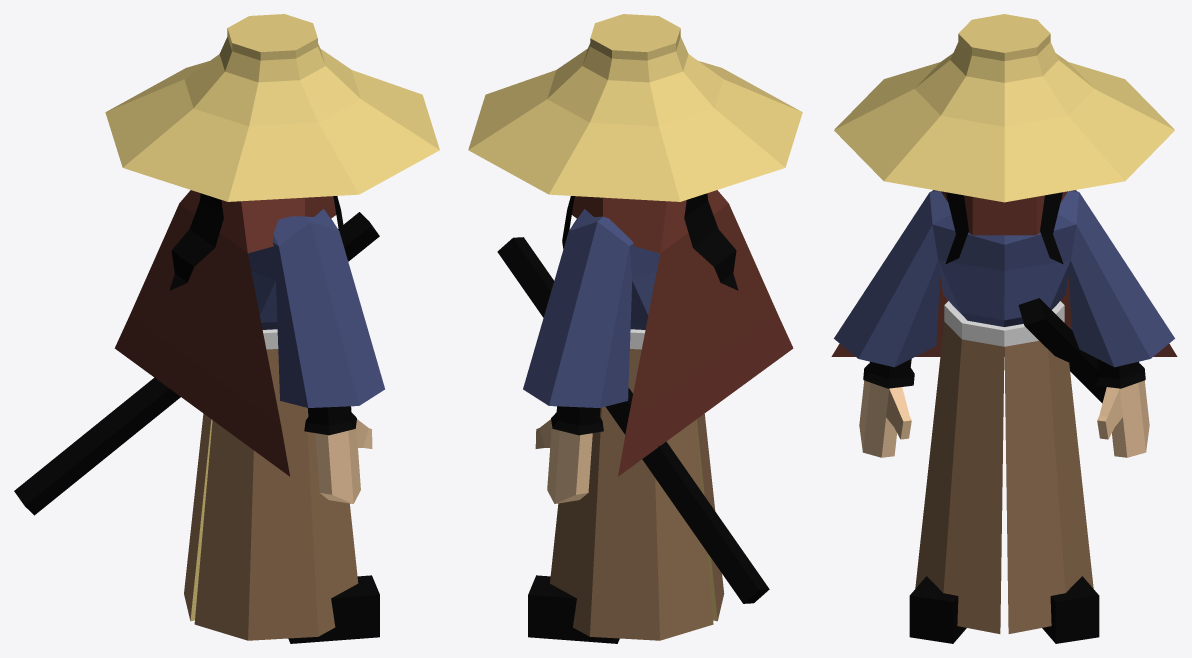
Rendered from samurai blockout.fbx.
The picture shows the model from 3 angles, left to right: view 1: azimuth 30°, elevation 25°; view 2: azimuth 150°, elevation 25°; view 3: azimuth 270°, elevation 25°; orthographic projection.
Parts seen in each view (by area): view 1: Cube; view 2: Cube; view 3: Cube.
Boxes of the visible parts, bbox=[...] form: Cube: bbox=[14, 14, 439, 643]; Cube: bbox=[468, 14, 802, 643]; Cube: bbox=[831, 14, 1177, 643].
Bounding box in the file's own units: 359 × 588 × 321.
